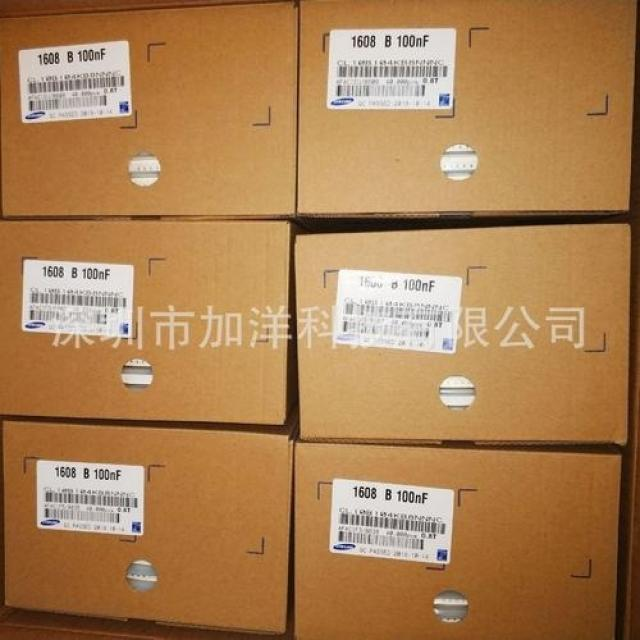box: (297, 2, 637, 220), (296, 225, 628, 443), (294, 440, 621, 639), (0, 3, 297, 220), (0, 416, 293, 633), (0, 219, 290, 423)
